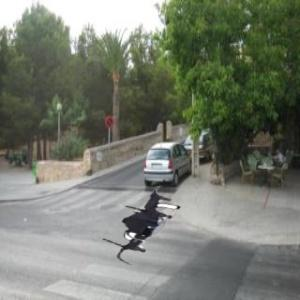drone: (98, 176, 194, 272)
